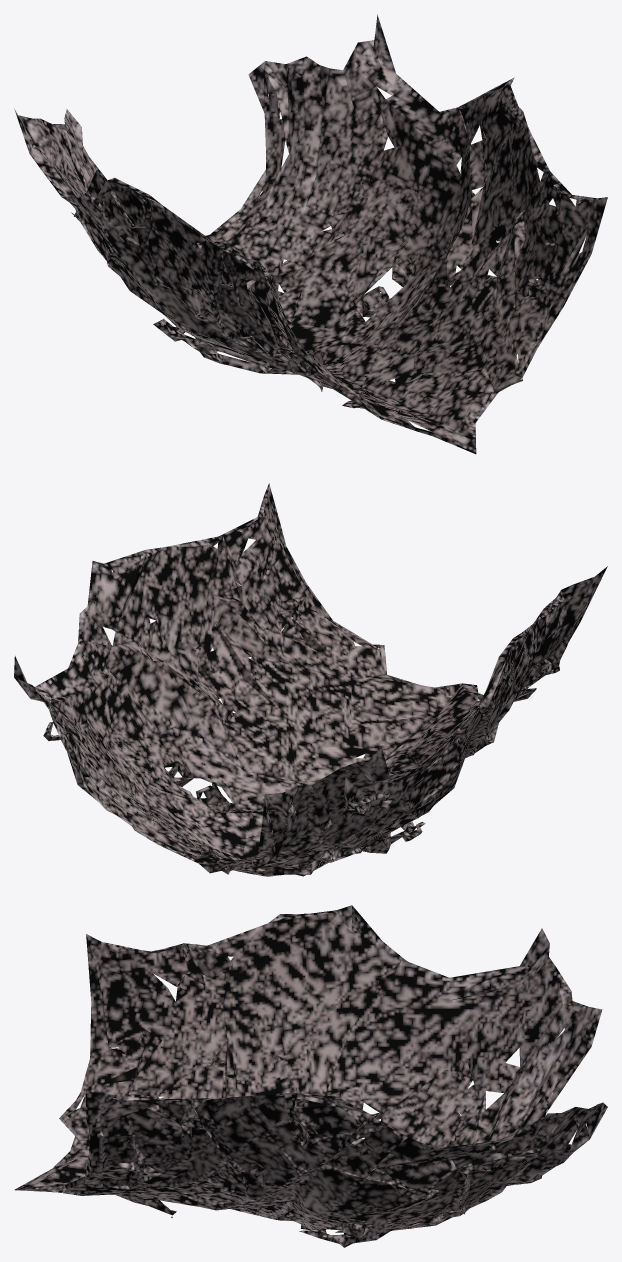
Rendered from vampire_chestplate_LOD2.glb.
3 renders of one model, top to bottom at view 1: azimuth 30°, elevation 25°; view 2: azimuth 150°, elevation 25°; view 3: azimuth 270°, elevation 25°, orthographic. The views are drawn at different scales.
Parts seen in each view (by area): view 1: vampire_chestplate_LOD2; view 2: vampire_chestplate_LOD2; view 3: vampire_chestplate_LOD2.
Part boxes in pixels (bbox=[...]): vampire_chestplate_LOD2: bbox=[14, 14, 607, 454]; vampire_chestplate_LOD2: bbox=[14, 483, 607, 876]; vampire_chestplate_LOD2: bbox=[15, 905, 607, 1247].
Bounding box in the file's own units: 0.5802 × 0.326 × 0.7637.
1 material, 1 textured.
